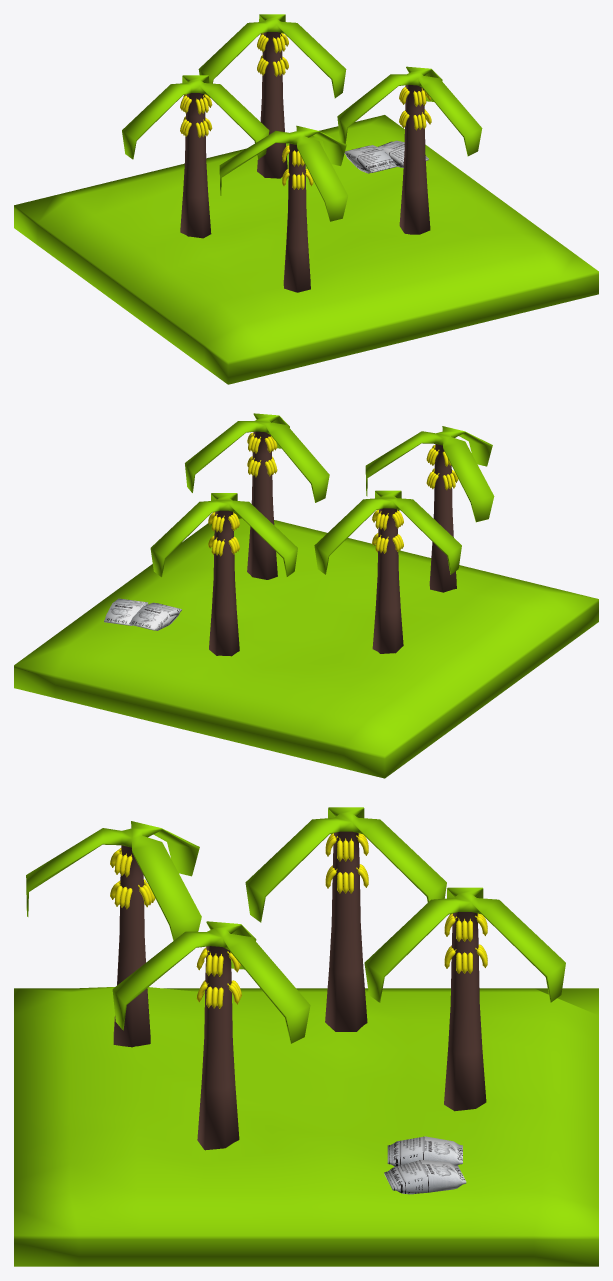
File: TheBanaanaFarm2.fbx
3 renders of one model, top to bottom at view 1: azimuth 30°, elevation 25°; view 2: azimuth 150°, elevation 25°; view 3: azimuth 270°, elevation 25°, orthographic. The views are drawn at different scales.
Visible parts, largest first — view 1: Plane.020, Plane.009, Plane.035; view 2: Plane.020, Plane.009, Plane.035; view 3: Plane.020, Plane.009, Plane.035.
Boxes of the visible parts, <box> form: Plane.020: <box>14,115,598,384</box>; Plane.009: <box>198,14,482,292</box>; Plane.035: <box>122,75,269,238</box>; Plane.020: <box>14,512,598,778</box>; Plane.009: <box>104,413,494,656</box>; Plane.035: <box>314,490,461,653</box>; Plane.020: <box>14,987,598,1266</box>; Plane.009: <box>26,821,565,1194</box>; Plane.035: <box>245,807,446,1031</box>.
Bounding box in the file's own units: 2457 × 1209 × 2457.
